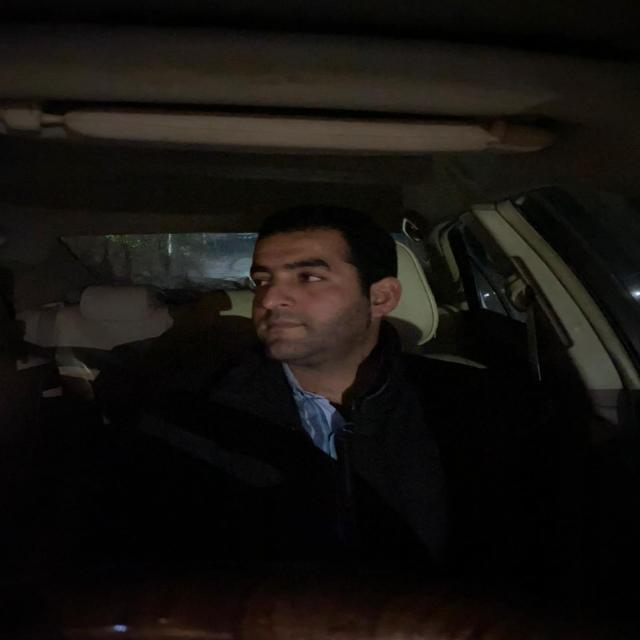person: (242, 223, 410, 364)
